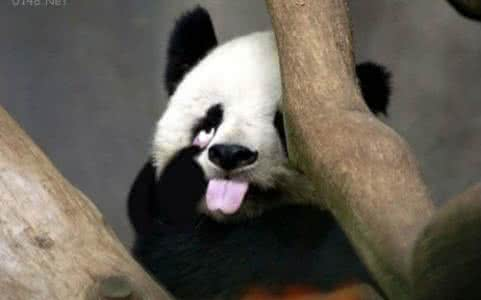panda: (127, 5, 392, 299)
